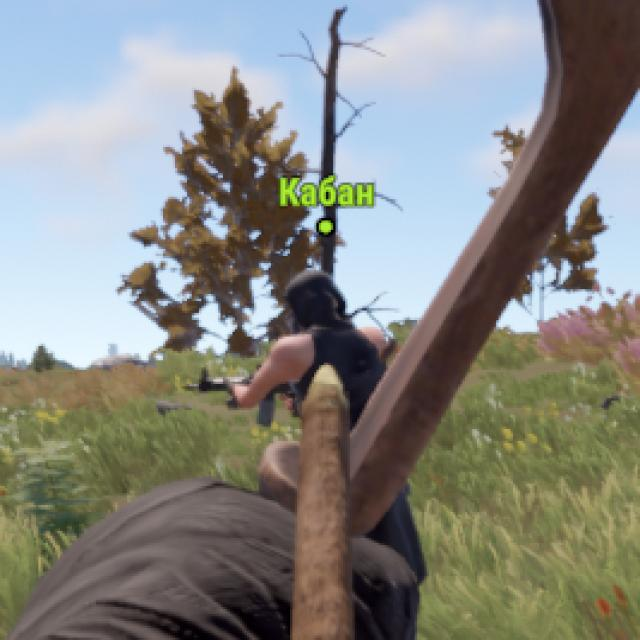Player: (238, 272, 385, 365)
